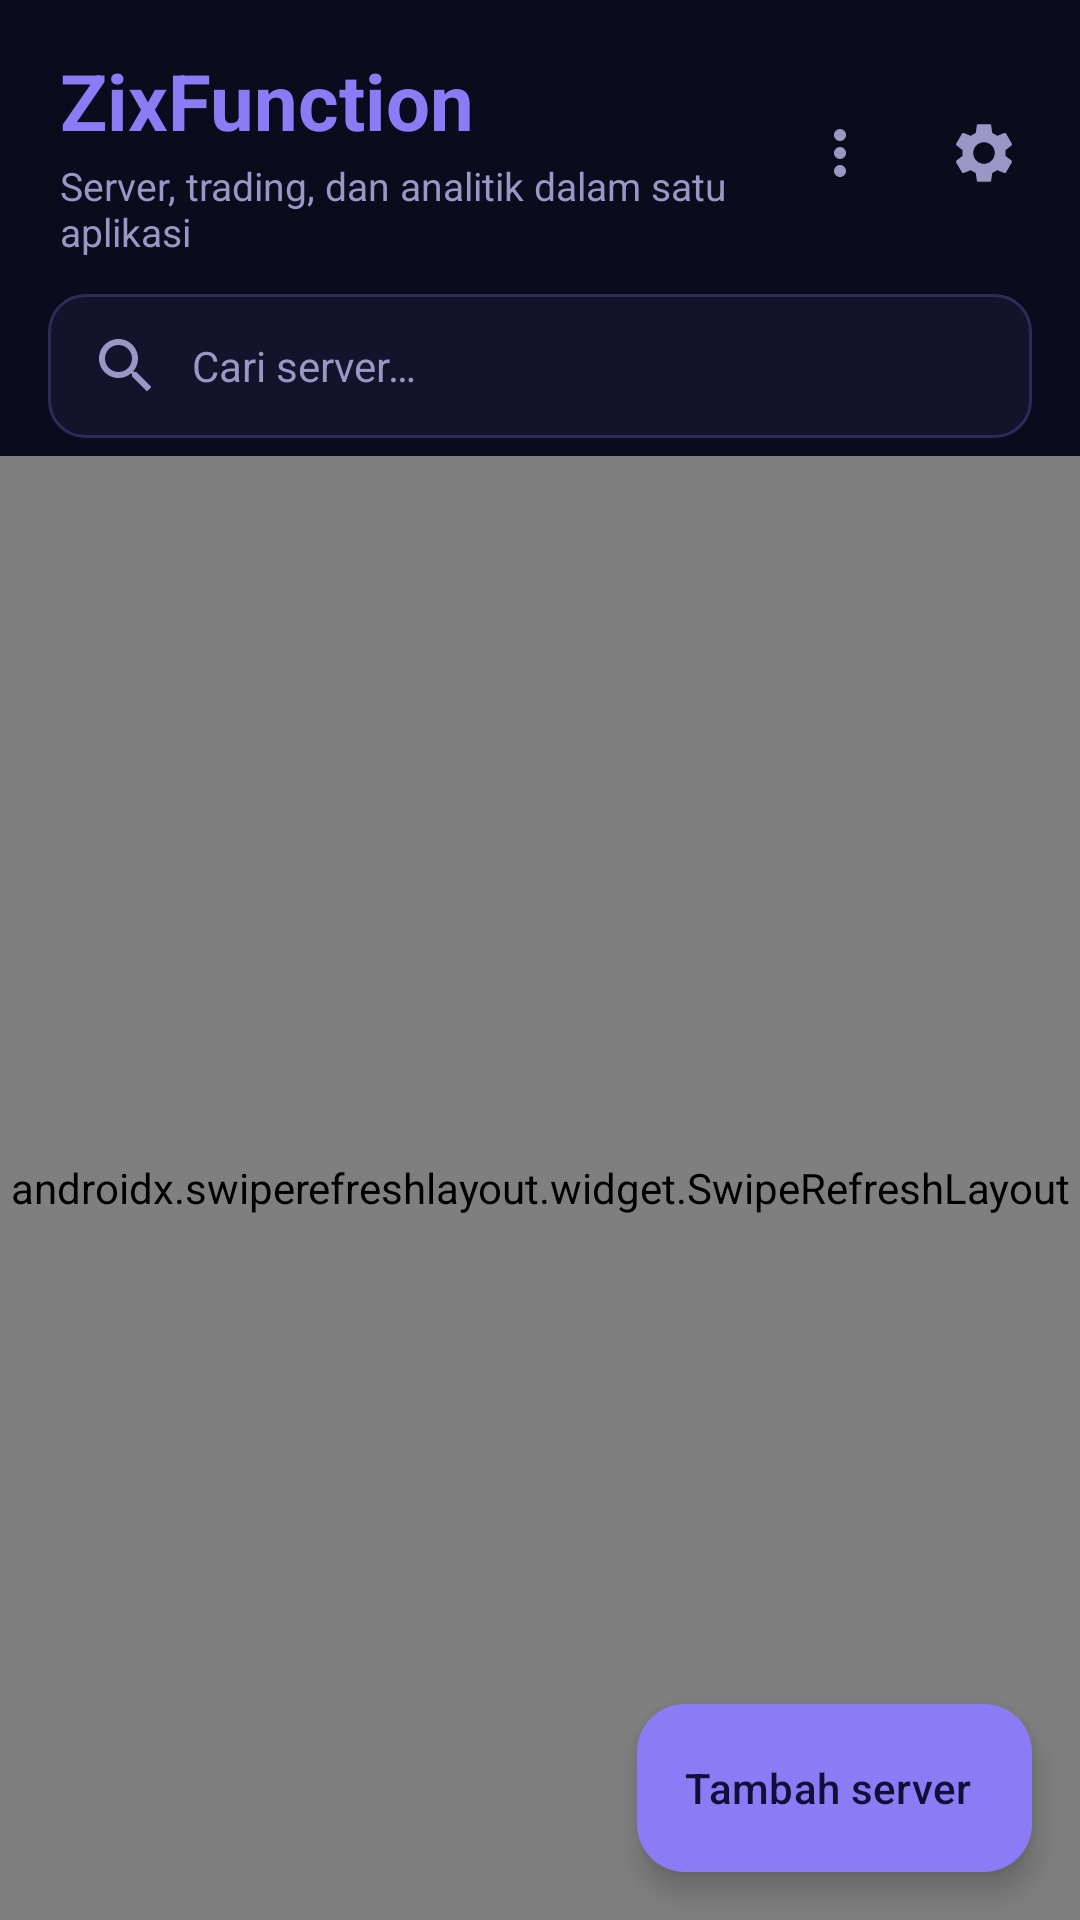

Named icons in this screenshot (1080x1920) and their centers, (x,y):
Pengaturan: (984,153)
